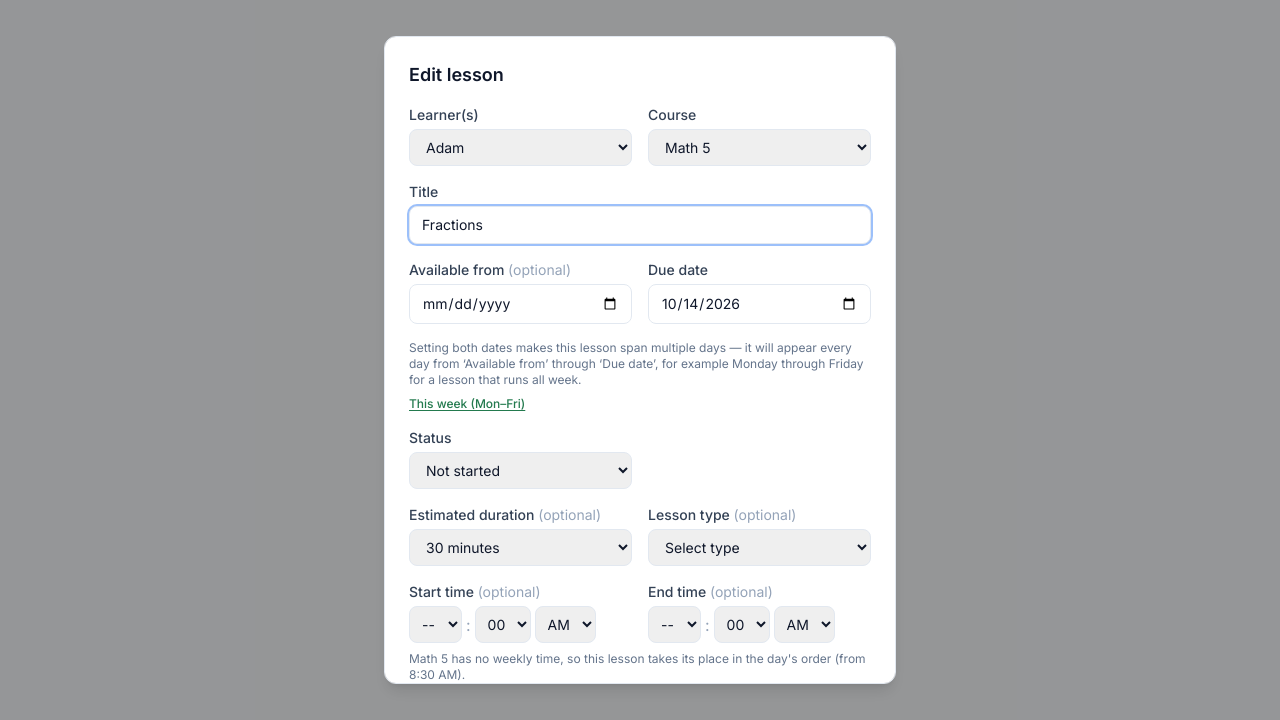
Scenario: EditLessonModal — moving to another learner or course › asks for a course after switching learner, and saves nothing until one is chosen
The width and height of the screenshot is (1280, 720).
Check: the field labelled "Title" is shown, box x1=409 y1=206 x2=871 y2=244
Select "Khadijah" in the dropdown named "learner". click: (520, 148)
box: x1=409 y1=129 x2=632 y2=166
(page scrolled)
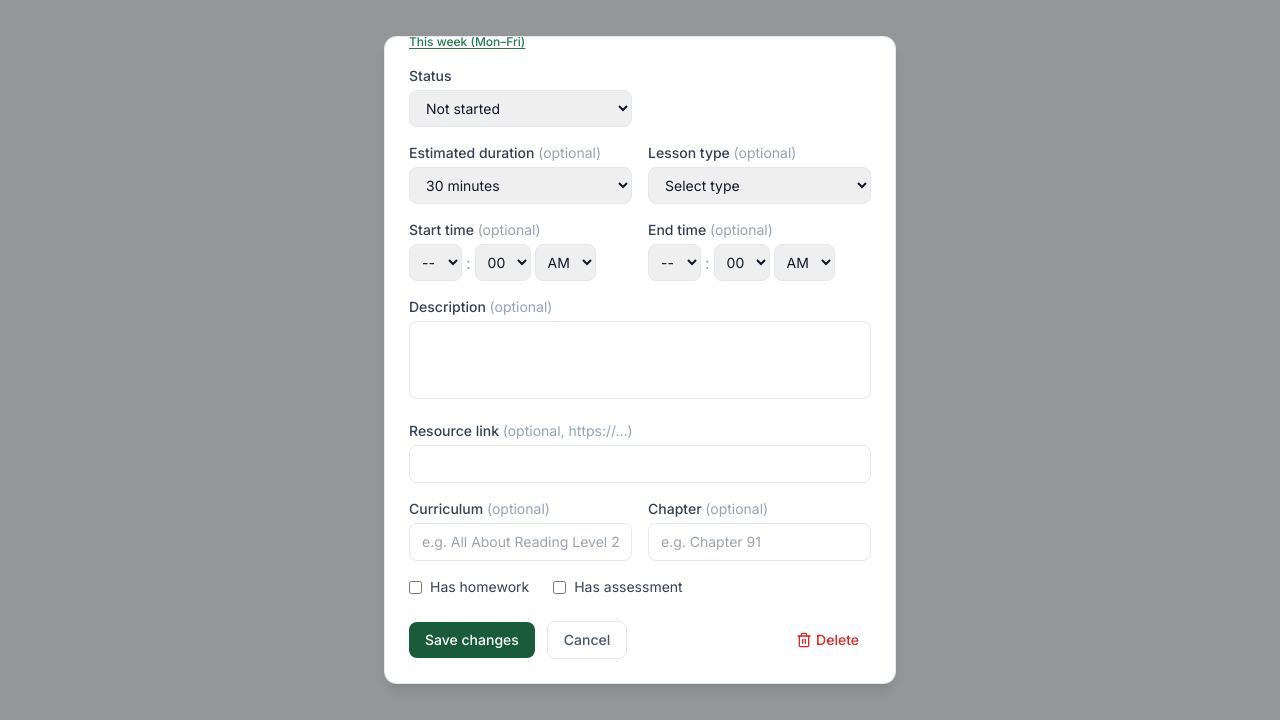
Click the button "Save changes". click: (472, 640)
box: x1=409 y1=622 x2=535 y2=658
(page scrolled)
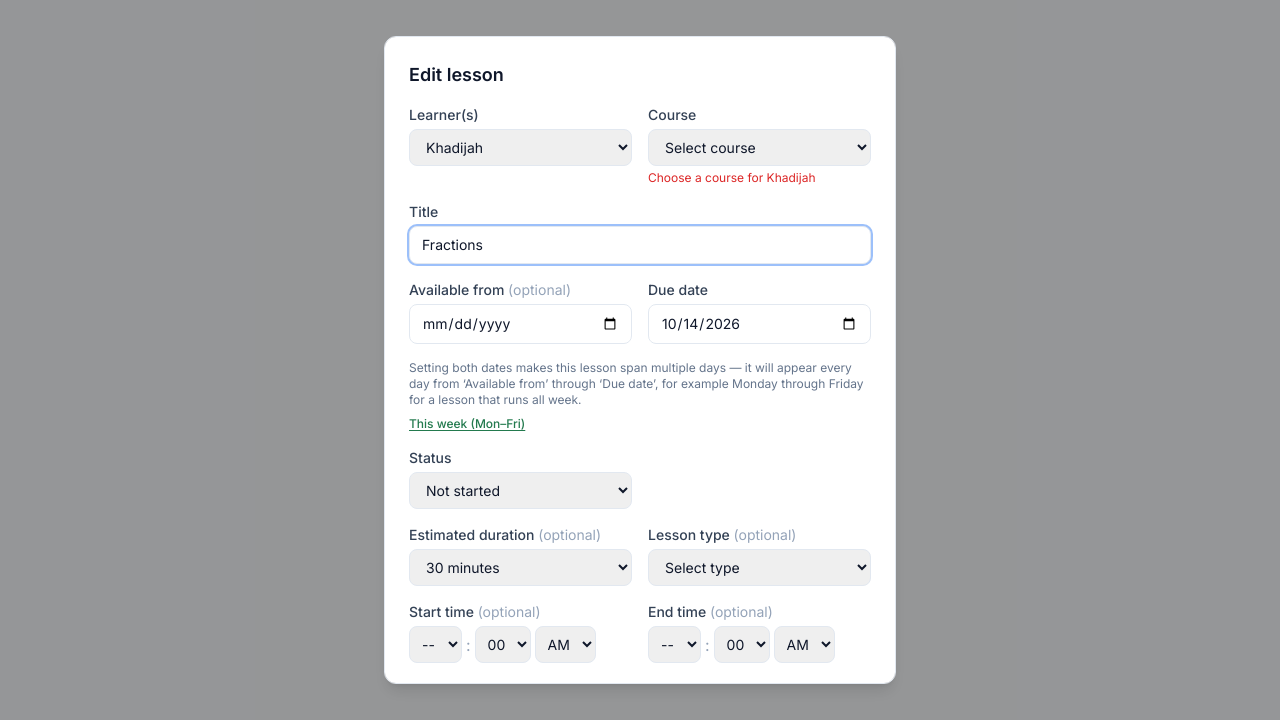
Check: the text "Choose a course for Khadijah" is shown, box x1=648 y1=170 x2=816 y2=185
